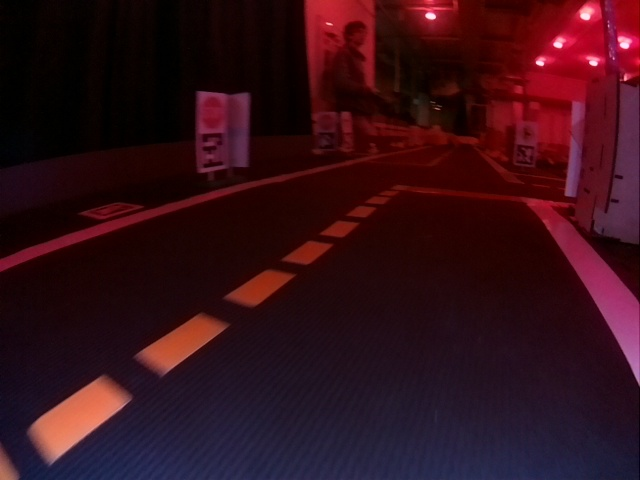Intersection sign: (518, 123, 536, 142)
QR code: (83, 201, 141, 220), (200, 136, 226, 170), (317, 132, 334, 149)
Stop sign: (202, 97, 225, 126), (317, 113, 334, 131)
